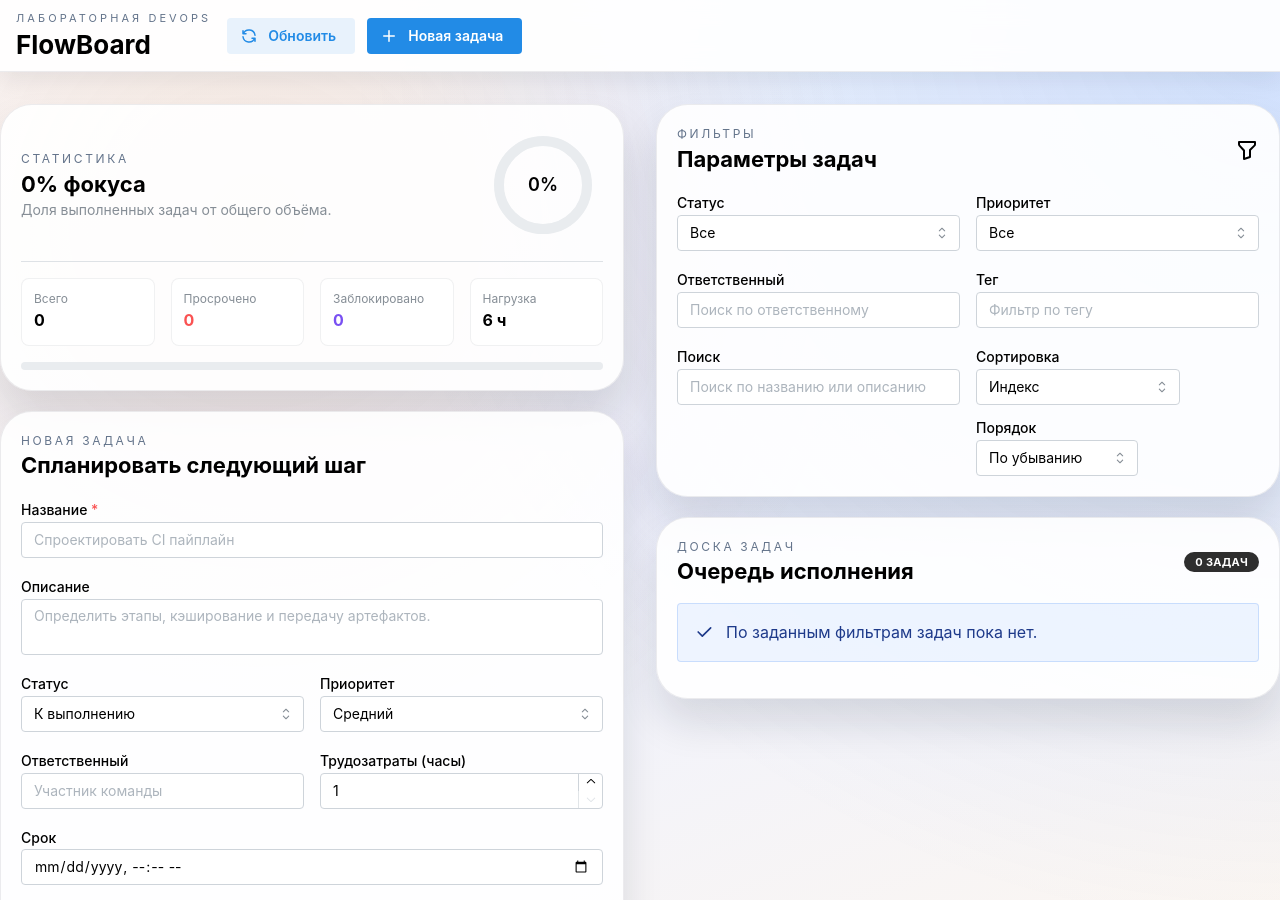
Test: App › shows save error messages
Expected: the text "По заданным фильтрам задач пока нет." is shown, [726, 620, 1037, 645]
In the field with test id "title-input": {"x": 312, "y": 540} [21, 522, 603, 558], type "Broken"
(page scrolled)
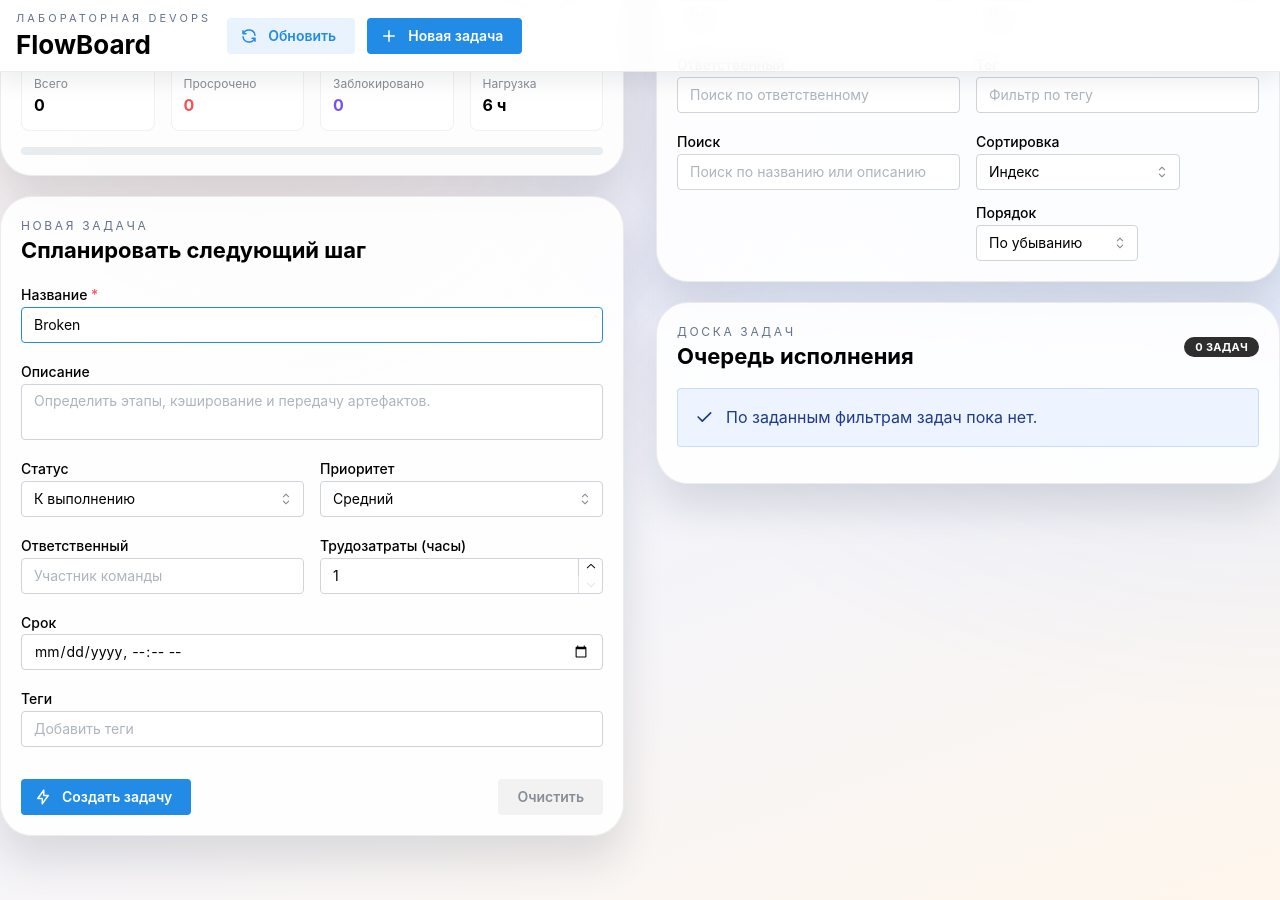
Click the button "Создать задачу": {"x": 106, "y": 797} [21, 779, 191, 815]
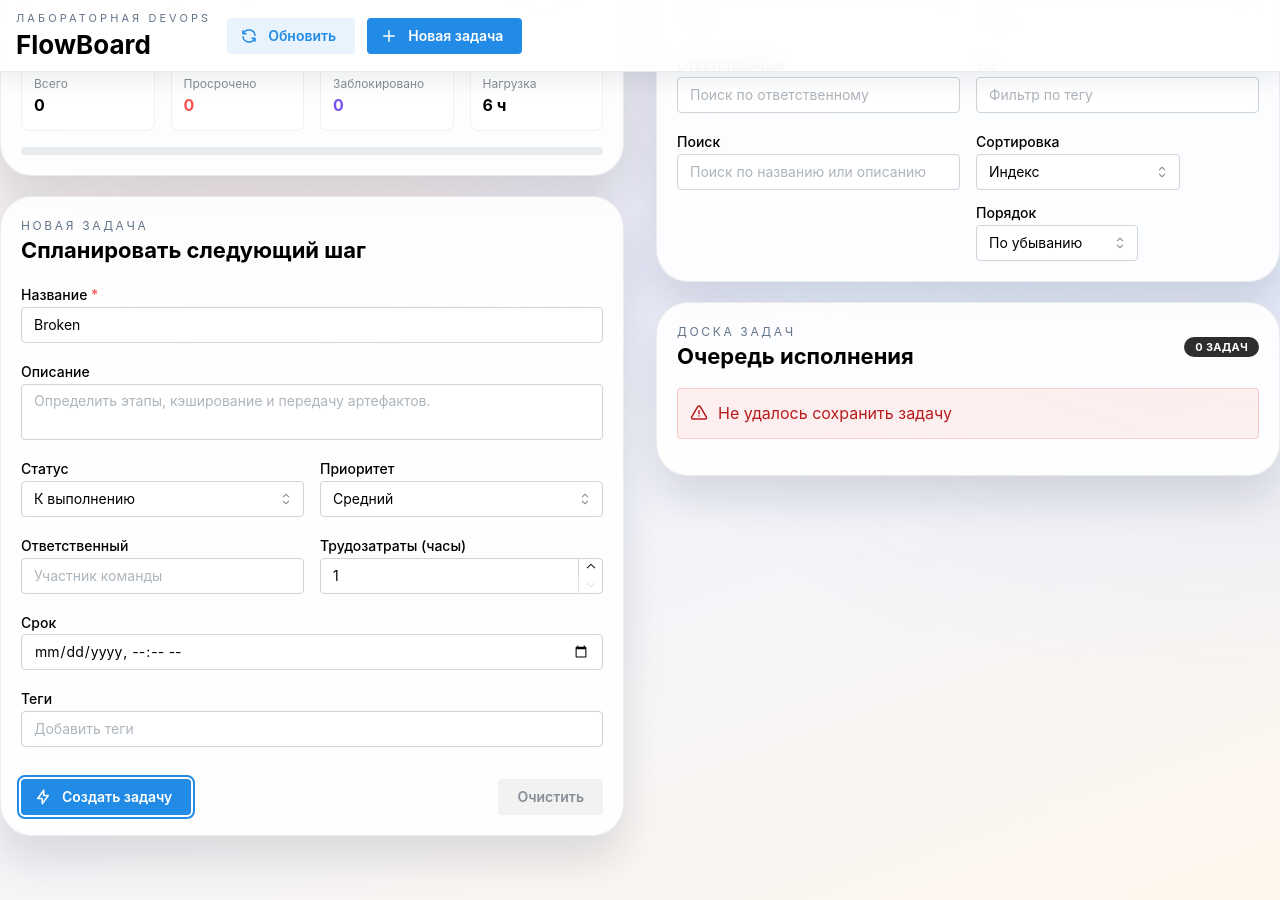
Now the text "Не удалось сохранить задачу" is shown, box [718, 401, 952, 426]
Click the button "Создать задачу": {"x": 106, "y": 797} [21, 779, 191, 815]
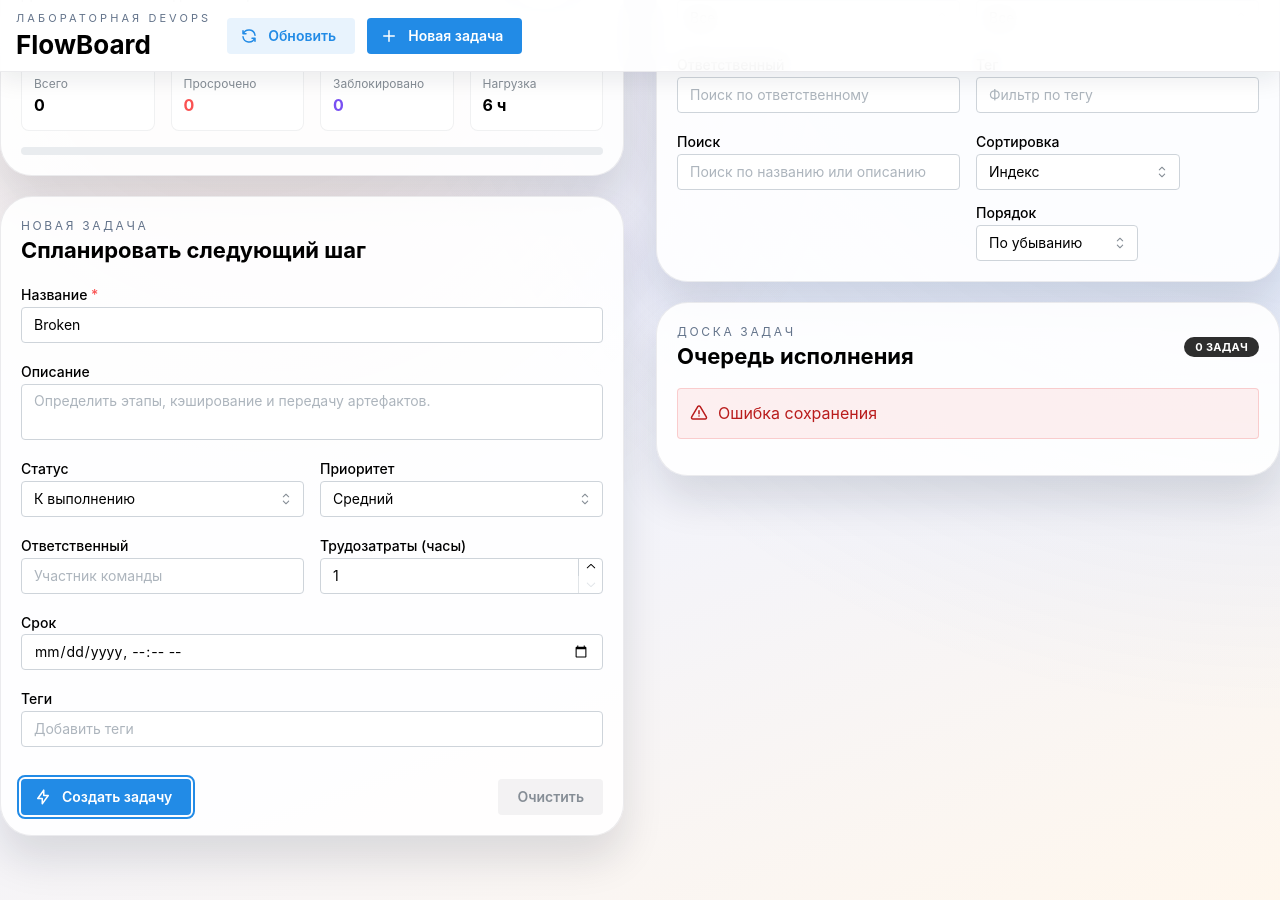
Now the text "Ошибка сохранения" is shown, box [718, 401, 877, 426]
